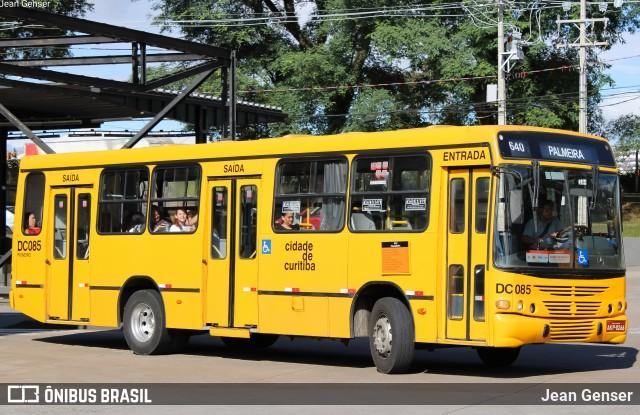PALMEIRA: (542, 141, 588, 162)
